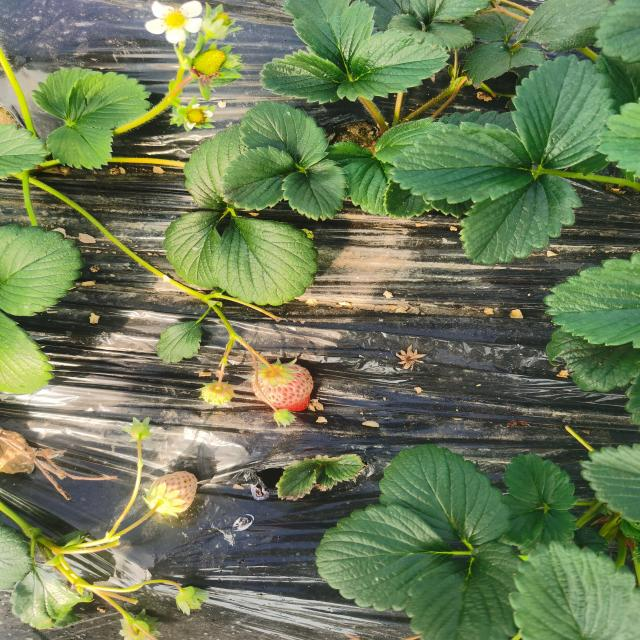stem: (254, 351, 279, 375)
strawberry: (252, 364, 314, 411)
